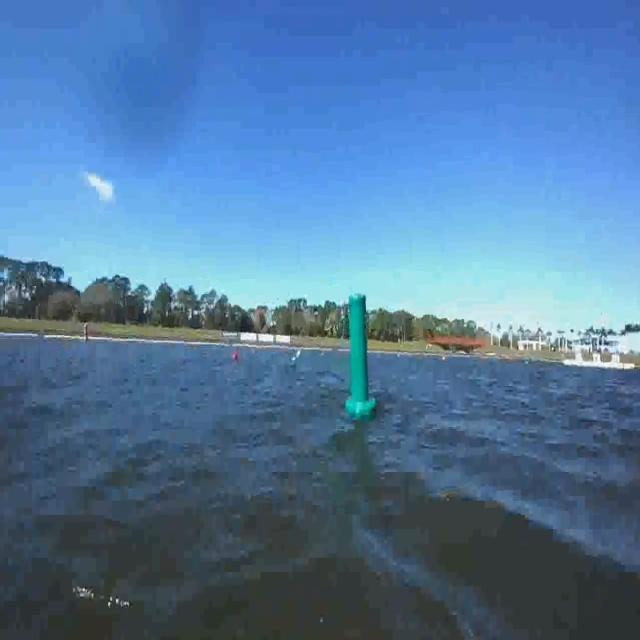green-column-buoy: (345, 288, 375, 416)
